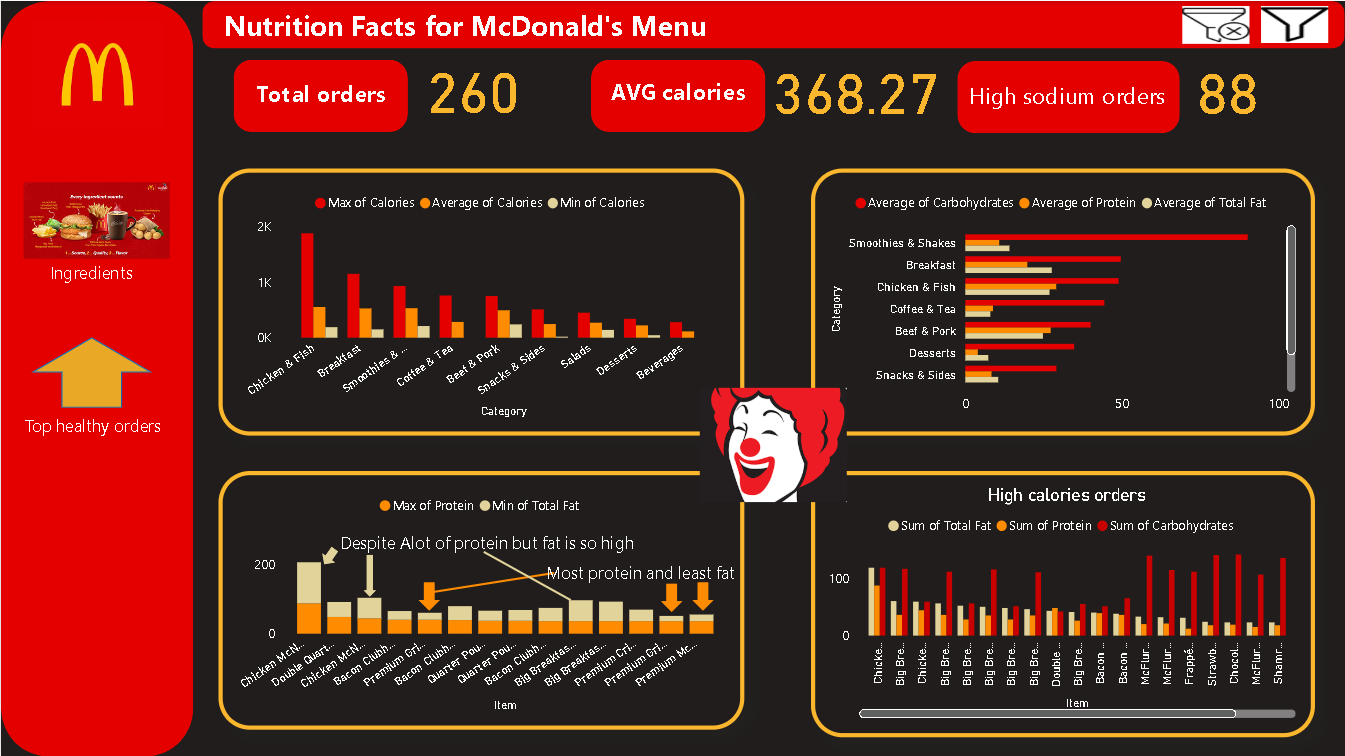

The dashboard page shown, as its layout file describes it:
{"tool":"powerbi","page":{"name":"Home","canvas":[1280,720],"ordinal":0},"visuals":[{"type":"shape","box":[191.7,0,1088.1,45.2],"z":0},{"type":"shape","box":[0,0,183.3,720.2],"z":1000},{"type":"shape","box":[221,56,166.7,69],"z":2000},{"type":"clusteredColumnChart","fields":{"Category":["1_(EDA) on Retail Sales Data.Category"],"Y":["Max(1_(EDA) on Retail Sales Data.Calories)","Avg(1_(EDA) on Retail Sales Data.Calories)","Min(1_(EDA) on Retail Sales Data.Calories)"]},"box":[207.1,159.5,501.2,254.8],"z":3000},{"type":"clusteredBarChart","fields":{"Category":["1_(EDA) on Retail Sales Data.Category"],"Y":["Avg(1_(EDA) on Retail Sales Data.Carbohydrates)","Avg(1_(EDA) on Retail Sales Data.Protein)","Avg(1_(EDA) on Retail Sales Data.Total Fat)"]},"box":[771.4,159.5,479.8,254.8],"z":4000},{"type":"columnChart","fields":{"Category":["1_(EDA) on Retail Sales Data.Item"],"Y":["Max(1_(EDA) on Retail Sales Data.Protein)","Min(1_(EDA) on Retail Sales Data.Total Fat)"]},"box":[207.1,447.6,501.2,246.4],"z":5000},{"type":"clusteredColumnChart","title":"High calories orders","fields":{"Category":["1_(EDA) on Retail Sales Data.Item"],"Y":["Sum(1_(EDA) on Retail Sales Data.Total Fat)","Sum(1_(EDA) on Retail Sales Data.Protein)","Sum(1_(EDA) on Retail Sales Data.Carbohydrates)"]},"box":[771.4,447.6,479.8,253.6],"z":6000},{"type":"card","fields":{"Values":["CountNonNull(1_(EDA) on Retail Sales Data.Order)"]},"box":[333.3,36,234.5,90],"z":7000},{"type":"card","fields":{"Values":["1_(EDA) on Retail Sales Data.Avg Calories"]},"box":[681,36,266.7,91.7],"z":8000},{"type":"card","title":"High sodium orders","fields":{"Values":["1_(EDA) on Retail Sales Data.High Sodium Items"]},"box":[1058.3,36,221.4,91.7],"z":9000},{"type":"textbox","box":[238.1,67.9,146.4,45.2],"z":10000},{"type":"shape","box":[910.8,57.1,211.9,69],"z":11000},{"type":"shape","box":[561.9,56,166.7,69],"z":12000},{"type":"textbox","box":[917.1,69,211.9,56],"z":13000},{"type":"textbox","box":[576.7,65.8,152.1,47.9],"z":14000},{"type":"textbox","box":[207.1,0,525,56],"z":15000},{"type":"image","box":[660.7,347.6,150,150],"z":16000},{"type":"shape","box":[658,553.4,20.5,27.4],"z":17000},{"type":"shape","box":[345.2,527.4,12.3,40],"z":18000},{"type":"shape","box":[412.3,532.9,115.1,41.1],"z":19000},{"type":"textbox","box":[317.8,498.6,304.1,37],"z":20000},{"type":"shape","box":[306,508,15.1,39.7],"z":21000},{"type":"textbox","box":[513.7,527.4,264.4,47.9],"z":22000},{"type":"shape","box":[628,555,20.5,27.4],"z":23000},{"type":"shape","box":[398,553,20.5,27.4],"z":24000},{"type":"image","box":[23.8,14.3,135.7,113.1],"z":25000},{"type":"image","box":[16.2,167.5,148.8,82.5],"z":26000},{"type":"textbox","box":[41.2,241.2,100,33.8],"z":27000},{"type":"textbox","box":[17.5,387.5,156.2,35],"z":28000},{"type":"shape","box":[28.8,320,116.2,67.5],"z":29000},{"type":"shape","box":[434.5,523.8,133.3,47.6],"z":30000},{"type":"image","box":[1195,0,73.8,45],"z":31000},{"type":"image","box":[1120.3,0,73.4,45.6],"z":32000}]}

Visuals, with their boxes in screenshot pixels (x1, y1, x2, y2), scaled from the page's 1280x720 canvas onto the 1345x756 screenshot:
shape: box=[201, 0, 1344, 47]
shape: box=[0, 0, 193, 755]
shape: box=[232, 59, 407, 131]
clusteredColumnChart - 1_(EDA) on Retail Sales Data.Category x Max(1_(EDA) on Retail Sales Data.Calories): box=[218, 167, 744, 435]
clusteredBarChart - 1_(EDA) on Retail Sales Data.Category x Avg(1_(EDA) on Retail Sales Data.Carbohydrates): box=[811, 167, 1315, 435]
columnChart - 1_(EDA) on Retail Sales Data.Item x Max(1_(EDA) on Retail Sales Data.Protein): box=[218, 470, 744, 729]
"High calories orders" clusteredColumnChart: box=[811, 470, 1315, 736]
card - CountNonNull(1_(EDA) on Retail Sales Data.Order): box=[350, 38, 597, 132]
card - 1_(EDA) on Retail Sales Data.Avg Calories: box=[716, 38, 996, 134]
"High sodium orders" card: box=[1112, 38, 1344, 134]
textbox: box=[250, 71, 404, 119]
shape: box=[957, 60, 1180, 132]
shape: box=[590, 59, 766, 131]
textbox: box=[964, 72, 1186, 131]
textbox: box=[606, 69, 766, 119]
textbox: box=[218, 0, 769, 59]
image: box=[694, 365, 852, 522]
shape: box=[691, 581, 713, 610]
shape: box=[363, 554, 376, 596]
shape: box=[433, 560, 554, 603]
textbox: box=[334, 524, 653, 562]
shape: box=[322, 533, 337, 575]
textbox: box=[540, 554, 818, 604]
shape: box=[660, 583, 681, 612]
shape: box=[418, 581, 440, 609]
image: box=[25, 15, 168, 134]
image: box=[17, 176, 173, 262]
textbox: box=[43, 253, 148, 289]
textbox: box=[18, 407, 183, 444]
shape: box=[30, 336, 152, 407]
shape: box=[457, 550, 597, 600]
image: box=[1256, 0, 1333, 47]
image: box=[1177, 0, 1254, 48]
